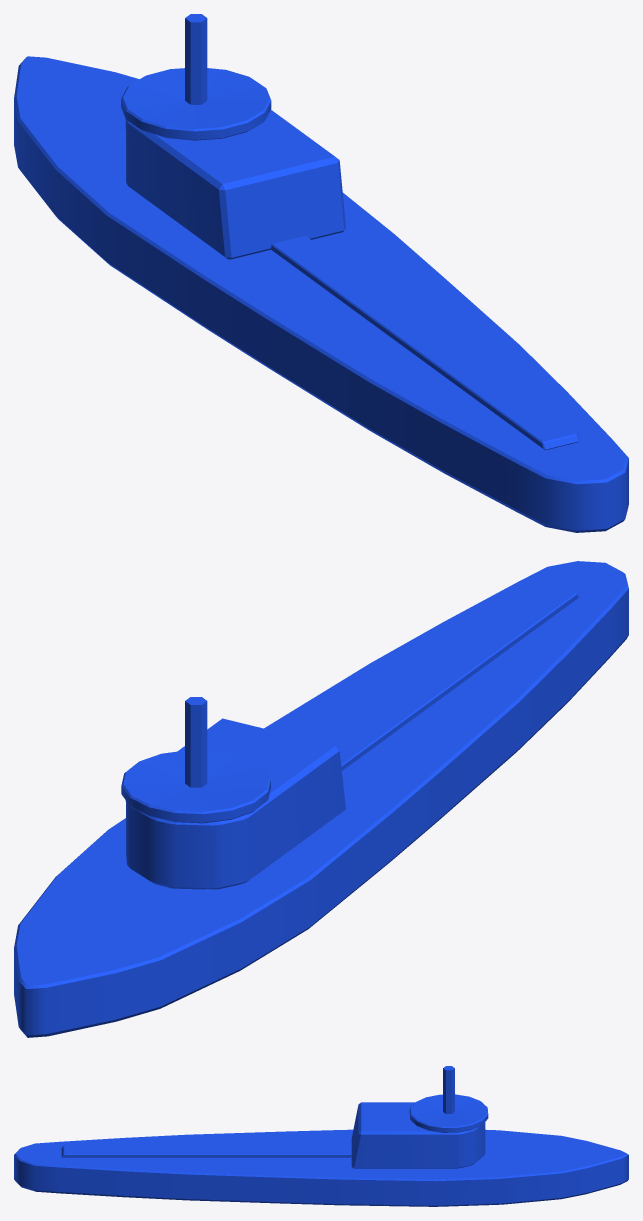
Rendered from Submarine01.fbx.
3 renders of one model, top to bottom at view 1: azimuth 30°, elevation 25°; view 2: azimuth 150°, elevation 25°; view 3: azimuth 270°, elevation 25°, orthographic. The views are drawn at different scales.
Visible parts, largest first — view 1: Submarine; view 2: Submarine; view 3: Submarine.
Boxes of the visible parts, box(x1,y1,x2,y2) form: Submarine: box(14, 14, 628, 532); Submarine: box(14, 561, 628, 1037); Submarine: box(14, 1066, 628, 1206).
Size of the model in its own units: 80.29 by 80.64 by 397.
1 material, 1 textured.
